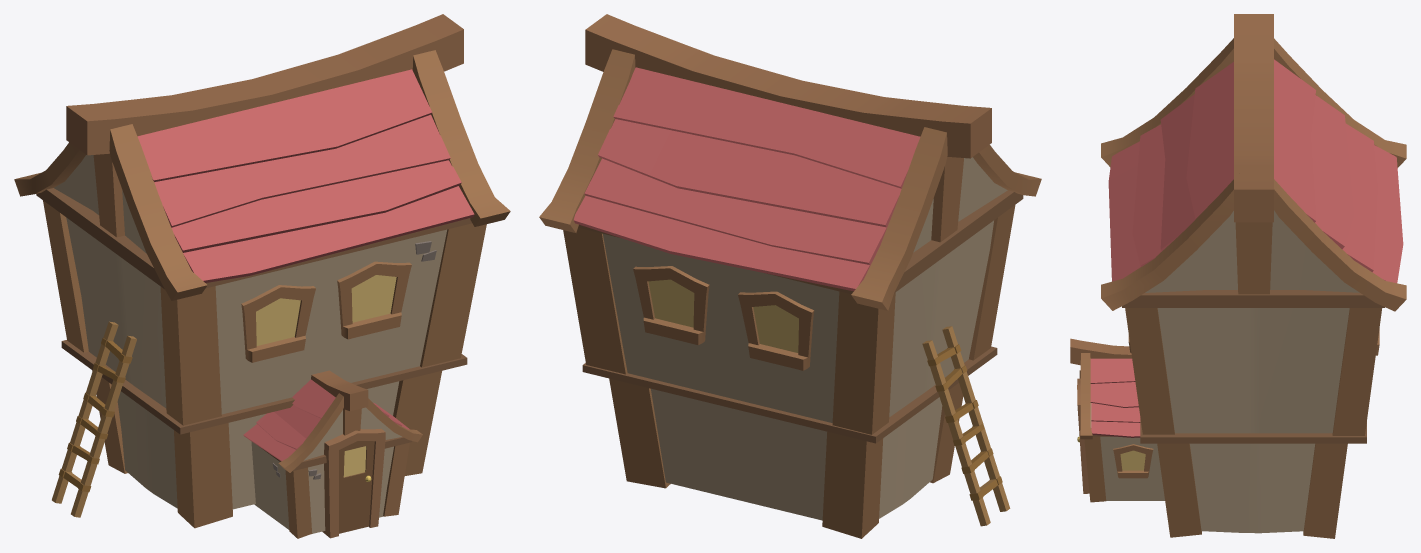
Rendered from Maizon3.fbx.
The picture shows the model from 3 angles, left to right: view 1: azimuth 30°, elevation 25°; view 2: azimuth 150°, elevation 25°; view 3: azimuth 270°, elevation 25°; orthographic projection. The views are drawn at different scales.
Visible parts, largest first — view 1: pasted__Corps_maizon (×2), pasted__pasted__Tuile4_d (×2), pasted__pCube24 (×2), pasted__pasted__Tuile3_d (×2), pasted__pasted__Tuile2_d (×2), pasted__pasted__Tuile1_d (×2), pasted__pCube21, pasted__pCube23 (×2), pasted__pCube30 (×2), pasted__pCube29, pasted__pCube86, pasted__pasted__pCube92 (+16 smaller); view 2: pasted__Corps_maizon, pasted__pasted__Tuile4_g, pasted__pasted__Tuile3_g, pasted__pCube24, pasted__pasted__Tuile2_g, pasted__pasted__Tuile1_g, pasted__pCube19, pasted__pCube25, pasted__pCube22, pasted__pCube85, pasted__pCube28, pasted__pasted__pCube92 (+11 smaller); view 3: pasted__Corps_maizon (×2), pasted__pCube24 (×2), pasted__pasted__Tuile4_g (×2), pasted__pasted__Tuile3_g (×2), pasted__pasted__Tuile4_d, pasted__pCube22 (×2), pasted__pCube28 (×2), pasted__pasted__Tuile2_g (×2), pasted__pCube23, pasted__pCube30, pasted__pCube27, pasted__pasted__Tuile1_g (×2) (+12 smaller).
Boxes of the visible parts, box(x1,y1,x2,y2) form: pasted__Corps_maizon (×2): box(54, 155, 446, 534); pasted__pasted__Tuile4_d (×2): box(137, 69, 432, 418); pasted__pCube24 (×2): box(66, 14, 463, 411); pasted__pasted__Tuile3_d (×2): box(154, 114, 450, 438); pasted__pasted__Tuile2_d (×2): box(171, 160, 461, 449); pasted__pasted__Tuile1_d (×2): box(183, 186, 474, 461); pasted__pCube21: box(160, 286, 221, 425); pasted__pCube23 (×2): box(285, 223, 486, 538); pasted__pCube30 (×2): box(278, 50, 510, 472); pasted__pCube29: box(109, 124, 207, 300); pasted__pCube86: box(174, 423, 232, 528); pasted__pasted__pCube92: box(52, 321, 136, 517); pasted__Corps_maizon: box(603, 157, 1007, 520); pasted__pasted__Tuile4_g: box(613, 67, 920, 188); pasted__pasted__Tuile3_g: box(598, 119, 901, 227); pasted__pCube24: box(585, 14, 991, 158); pasted__pasted__Tuile2_g: box(584, 158, 888, 265); pasted__pasted__Tuile1_g: box(573, 195, 869, 291); pasted__pCube19: box(832, 291, 895, 434); pasted__pCube25: box(851, 127, 947, 310); pasted__pCube22: box(563, 227, 627, 374); pasted__pCube85: box(822, 432, 883, 538); pasted__pCube28: box(539, 49, 635, 232); pasted__pasted__pCube92: box(922, 326, 1010, 526); pasted__Corps_maizon (×2): box(1090, 210, 1359, 533); pasted__pCube24 (×2): box(1070, 14, 1273, 365); pasted__pasted__Tuile4_g (×2): box(1090, 59, 1315, 383); pasted__pasted__Tuile3_g (×2): box(1090, 95, 1353, 407); pasted__pasted__Tuile4_d: box(1186, 62, 1233, 218); pasted__pCube22 (×2): box(1084, 308, 1382, 502); pasted__pCube28 (×2): box(1080, 179, 1406, 439); pasted__pasted__Tuile2_g (×2): box(1091, 123, 1378, 422); pasted__pCube23: box(1125, 308, 1174, 434); pasted__pCube30: box(1101, 179, 1233, 310); pasted__pCube27: box(1122, 290, 1384, 307); pasted__pasted__Tuile1_g (×2): box(1091, 145, 1403, 437).
Bounding box in the file's own units: 67.82 × 66.27 × 52.75.
